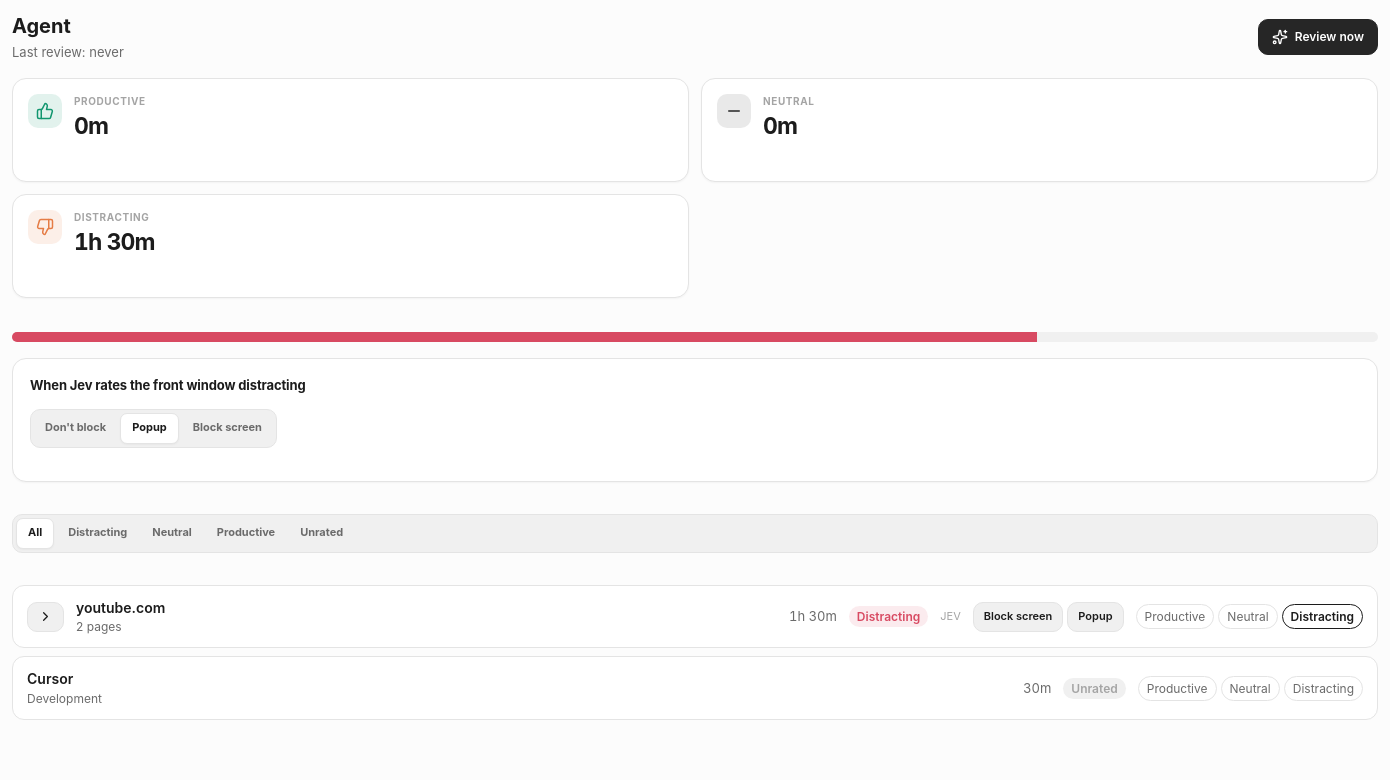
AgentScreen › filters the list
Click the tab "Unrated": {"x": 322, "y": 533} [289, 518, 354, 549]
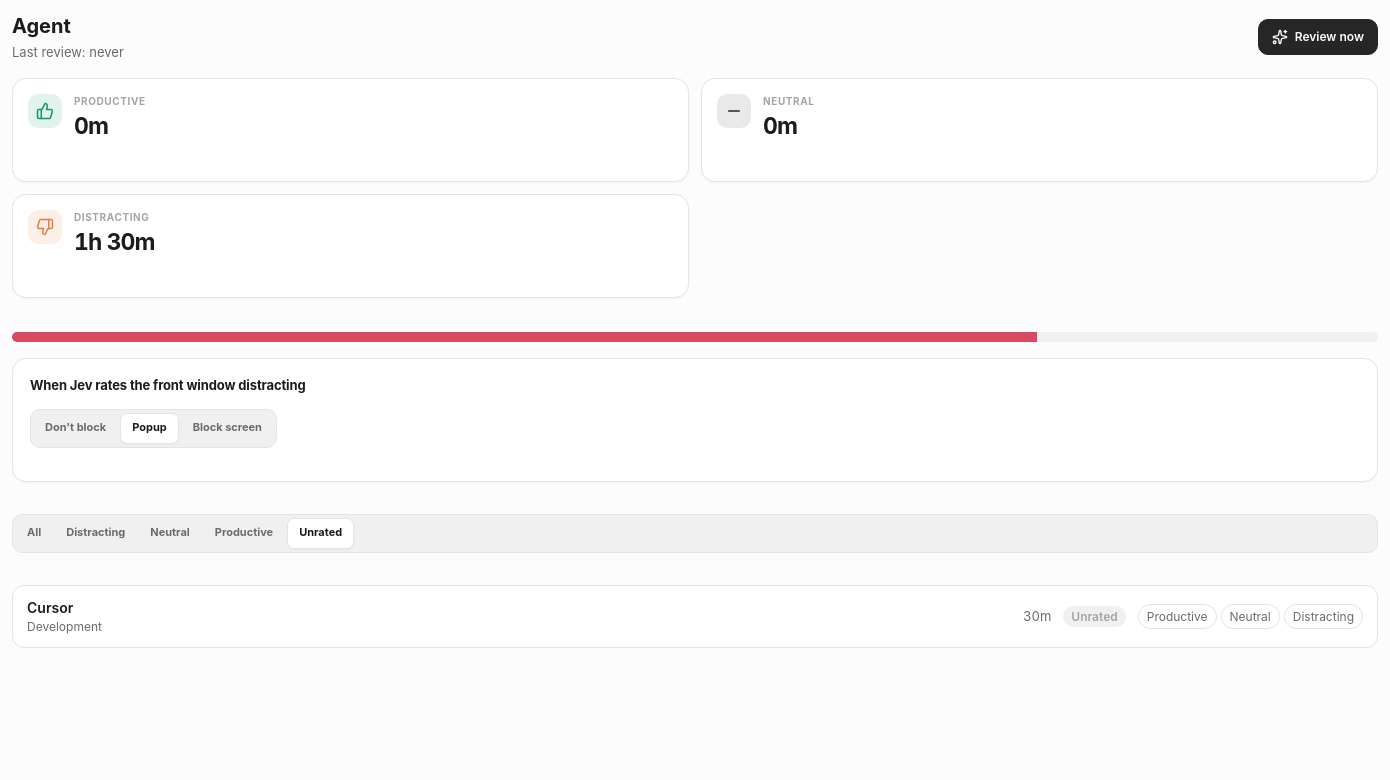
expect the text "Cursor" is shown: met, box [27, 599, 73, 616]
expect the text "youtube.com" is gone: met
